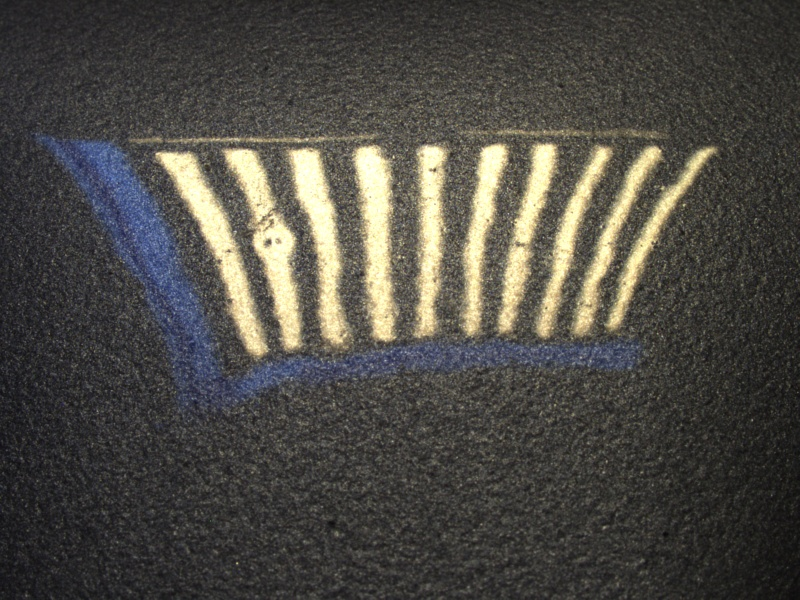bad: (244, 218, 299, 269)
